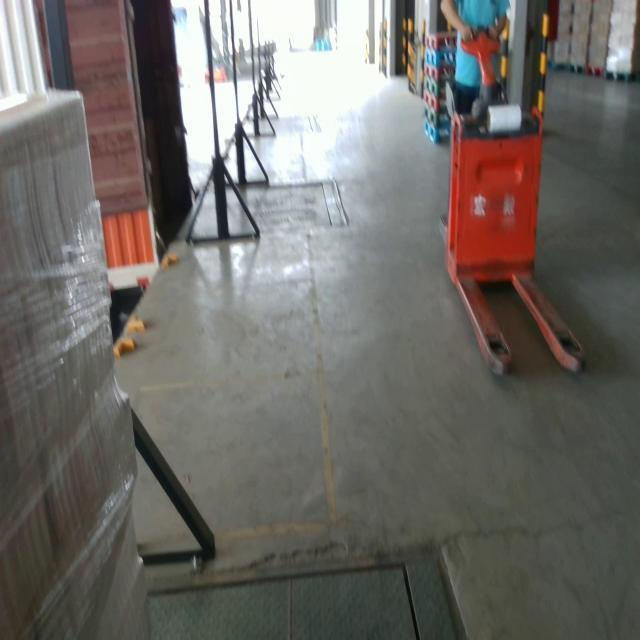forklift: (437, 23, 588, 379)
person: (439, 0, 509, 120)
